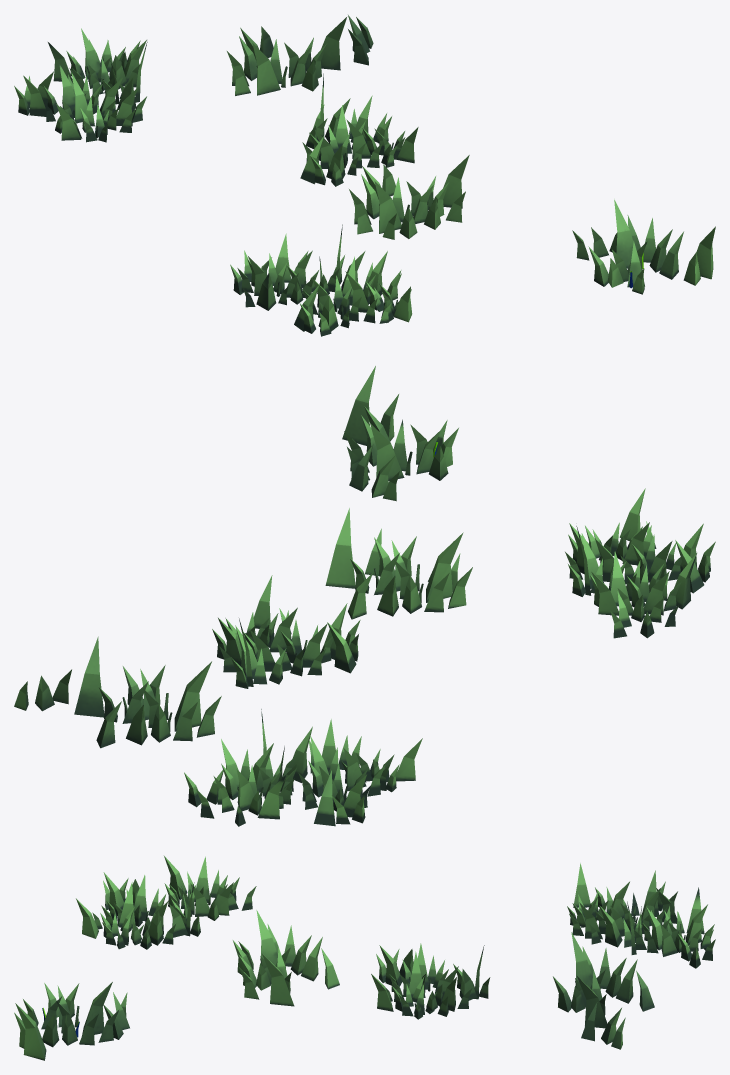
File: Plant_02.FBX
The picture shows the model from 3 angles, top to bottom: view 1: azimuth 30°, elevation 25°; view 2: azimuth 150°, elevation 25°; view 3: azimuth 270°, elevation 25°; orthographic projection. The views are drawn at different scales.
Parts seen in each view (by area): view 1: Plant_02; view 2: Plant_02; view 3: Plant_02.
Part boxes in pixels (x1,y1,x2,y2): Plant_02: (14, 15, 715, 336); Plant_02: (14, 366, 715, 826); Plant_02: (14, 856, 715, 1060).
Size of the model in its own units: 12.23 by 2.02 by 21.16.
